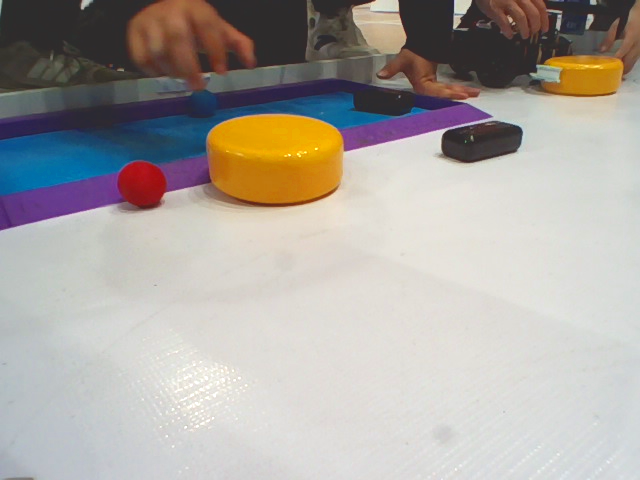black: (430, 121, 539, 181), (348, 84, 415, 121)
blue: (184, 87, 218, 120)
kuang: (1, 67, 495, 239)
red: (114, 163, 176, 215)
yellow: (194, 110, 356, 210), (529, 49, 632, 106)
